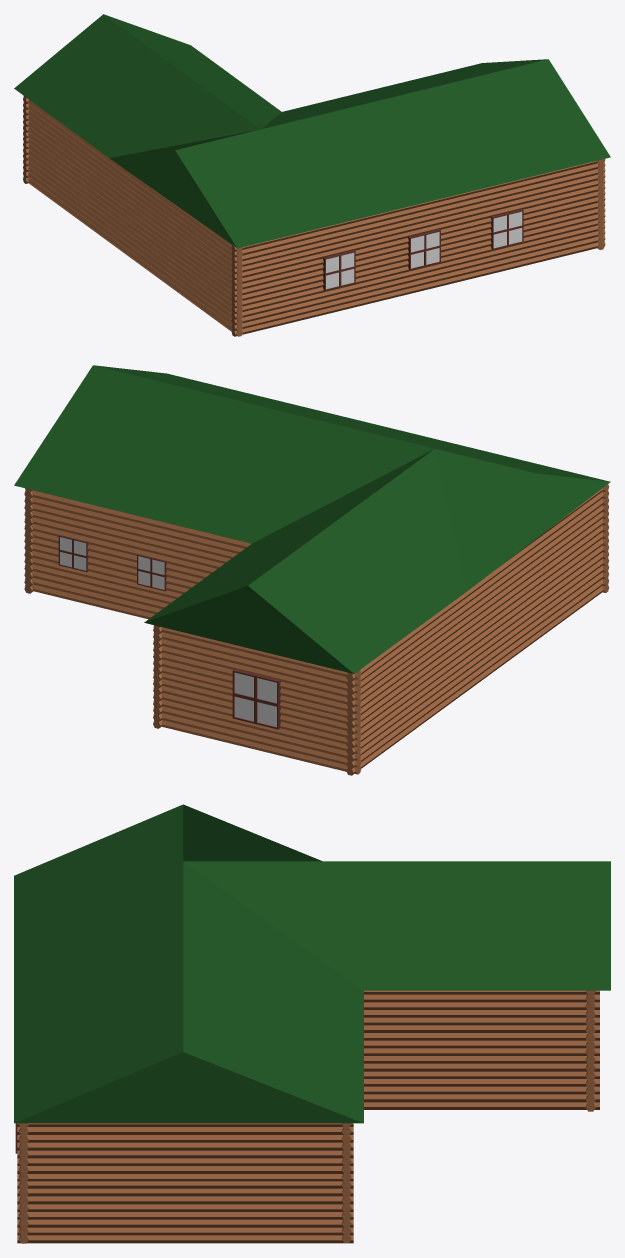
The model's file is FAMILYHOME_V1.fbx.
The picture shows the model from 3 angles, top to bottom: view 1: azimuth 30°, elevation 25°; view 2: azimuth 150°, elevation 25°; view 3: azimuth 270°, elevation 25°; orthographic projection. The views are drawn at different scales.
Visible parts, largest first — view 1: Plane.001, Cube.002, Cube.004, Cube.005, Cube.009, Cube.006, Cube.003, Cube.007; view 2: Plane.001, Cube.004, Cube.007, Cube.001, Cube.016, Cube.015, Cube.014, Cube.008, Cube.003, Cube.002; view 3: Plane.001, Cube.003, Cube.008, Cube.007, Cube.002, Cube.001.
Boxes of the visible parts, bbox=[...] form: Plane.001: bbox=[14, 14, 610, 248]; Cube.002: bbox=[231, 159, 605, 336]; Cube.004: bbox=[23, 99, 242, 336]; Cube.005: bbox=[490, 209, 523, 249]; Cube.009: bbox=[323, 250, 355, 290]; Cube.006: bbox=[408, 229, 440, 269]; Cube.003: bbox=[597, 159, 604, 249]; Cube.007: bbox=[23, 95, 28, 183]; Plane.001: bbox=[14, 365, 610, 673]; Cube.004: bbox=[346, 488, 603, 775]; Cube.007: bbox=[153, 626, 361, 774]; Cube.001: bbox=[24, 490, 251, 619]; Cube.016: bbox=[232, 669, 280, 729]; Cube.015: bbox=[58, 535, 88, 571]; Cube.014: bbox=[137, 554, 166, 591]; Cube.008: bbox=[153, 625, 162, 728]; Cube.003: bbox=[24, 488, 33, 593]; Cube.002: bbox=[602, 484, 609, 592]; Plane.001: bbox=[14, 804, 610, 1123]; Cube.003: bbox=[17, 1123, 353, 1243]; Cube.008: bbox=[364, 990, 599, 1109]; Cube.007: bbox=[585, 990, 595, 1111]; Cube.002: bbox=[19, 1123, 28, 1243]; Cube.001: bbox=[341, 1123, 351, 1242].
Bounding box in the file's own units: 3074 × 1121 × 3101.
